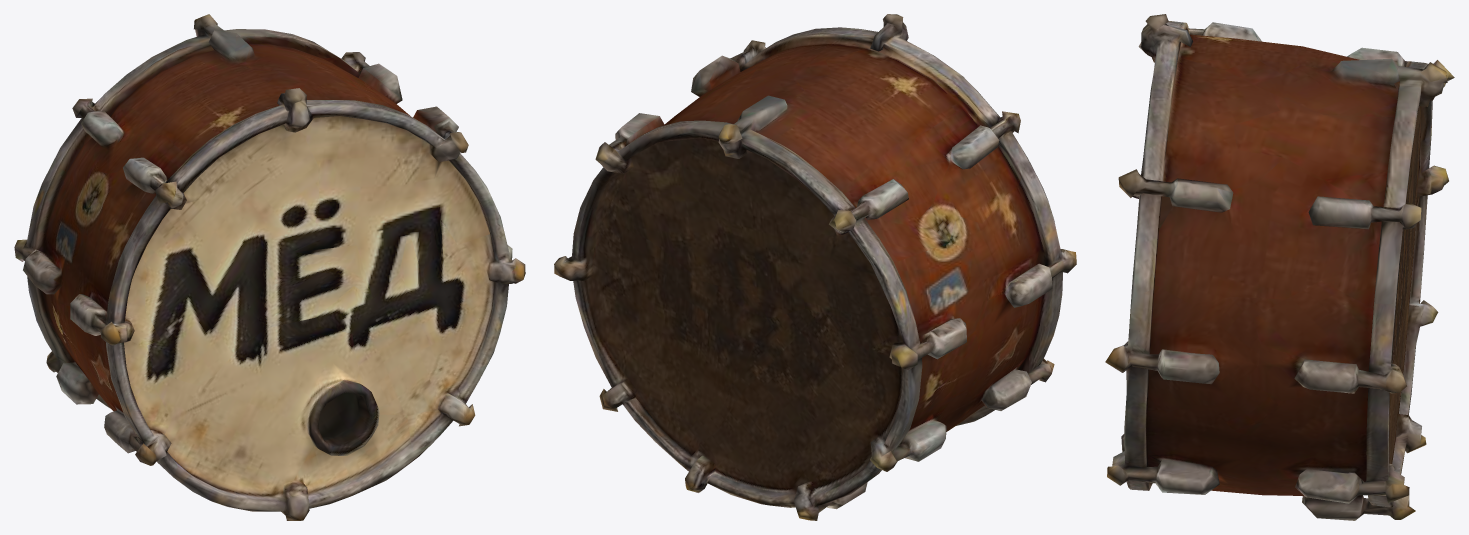
Rendered from drum.glb.
The picture shows the model from 3 angles, left to right: view 1: azimuth 30°, elevation 25°; view 2: azimuth 150°, elevation 25°; view 3: azimuth 270°, elevation 25°; orthographic projection. The views are drawn at different scales.
Parts seen in each view (by area): view 1: drum; view 2: drum; view 3: drum.
Part boxes in pixels (bbox=[...]): drum: bbox=[14, 14, 525, 520]; drum: bbox=[554, 14, 1076, 520]; drum: bbox=[1105, 14, 1454, 520].
Bounding box in the file's own units: 1 × 0.9657 × 0.6668.
Materials: 1 (1 with a texture image).
